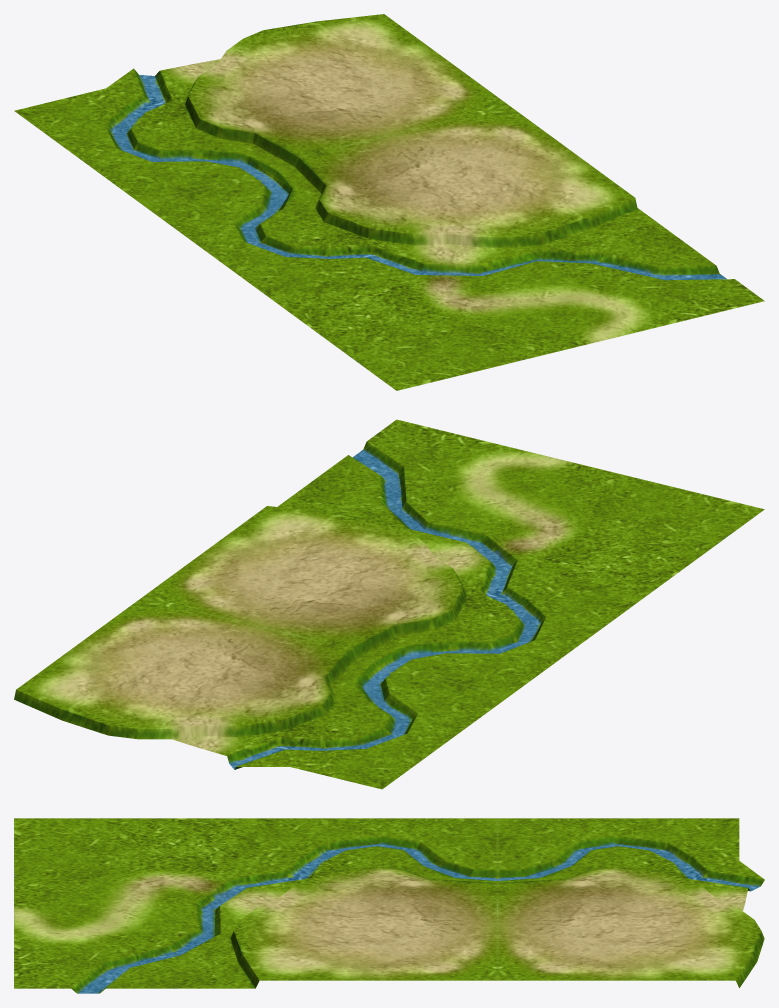
Rendered from GGYD_DX03.FBX.
3 renders of one model, top to bottom at view 1: azimuth 30°, elevation 25°; view 2: azimuth 150°, elevation 25°; view 3: azimuth 270°, elevation 25°, orthographic. The views are drawn at different scales.
Visible parts, largest first — view 1: Plane04, Plane05; view 2: Plane04, Plane05; view 3: Plane04, Plane05.
Part boxes in pixels (left/top/right/bottom): Plane04: left=142, top=106, right=764, bottom=390; Plane05: left=14, top=14, right=509, bottom=203; Plane04: left=142, top=419, right=764, bottom=695; Plane05: left=14, top=598, right=509, bottom=789; Plane04: left=14, top=818, right=497, bottom=993; Plane05: left=497, top=818, right=764, bottom=987.
Bounding box in the file's own units: 50 × 1.81 × 93.17.
